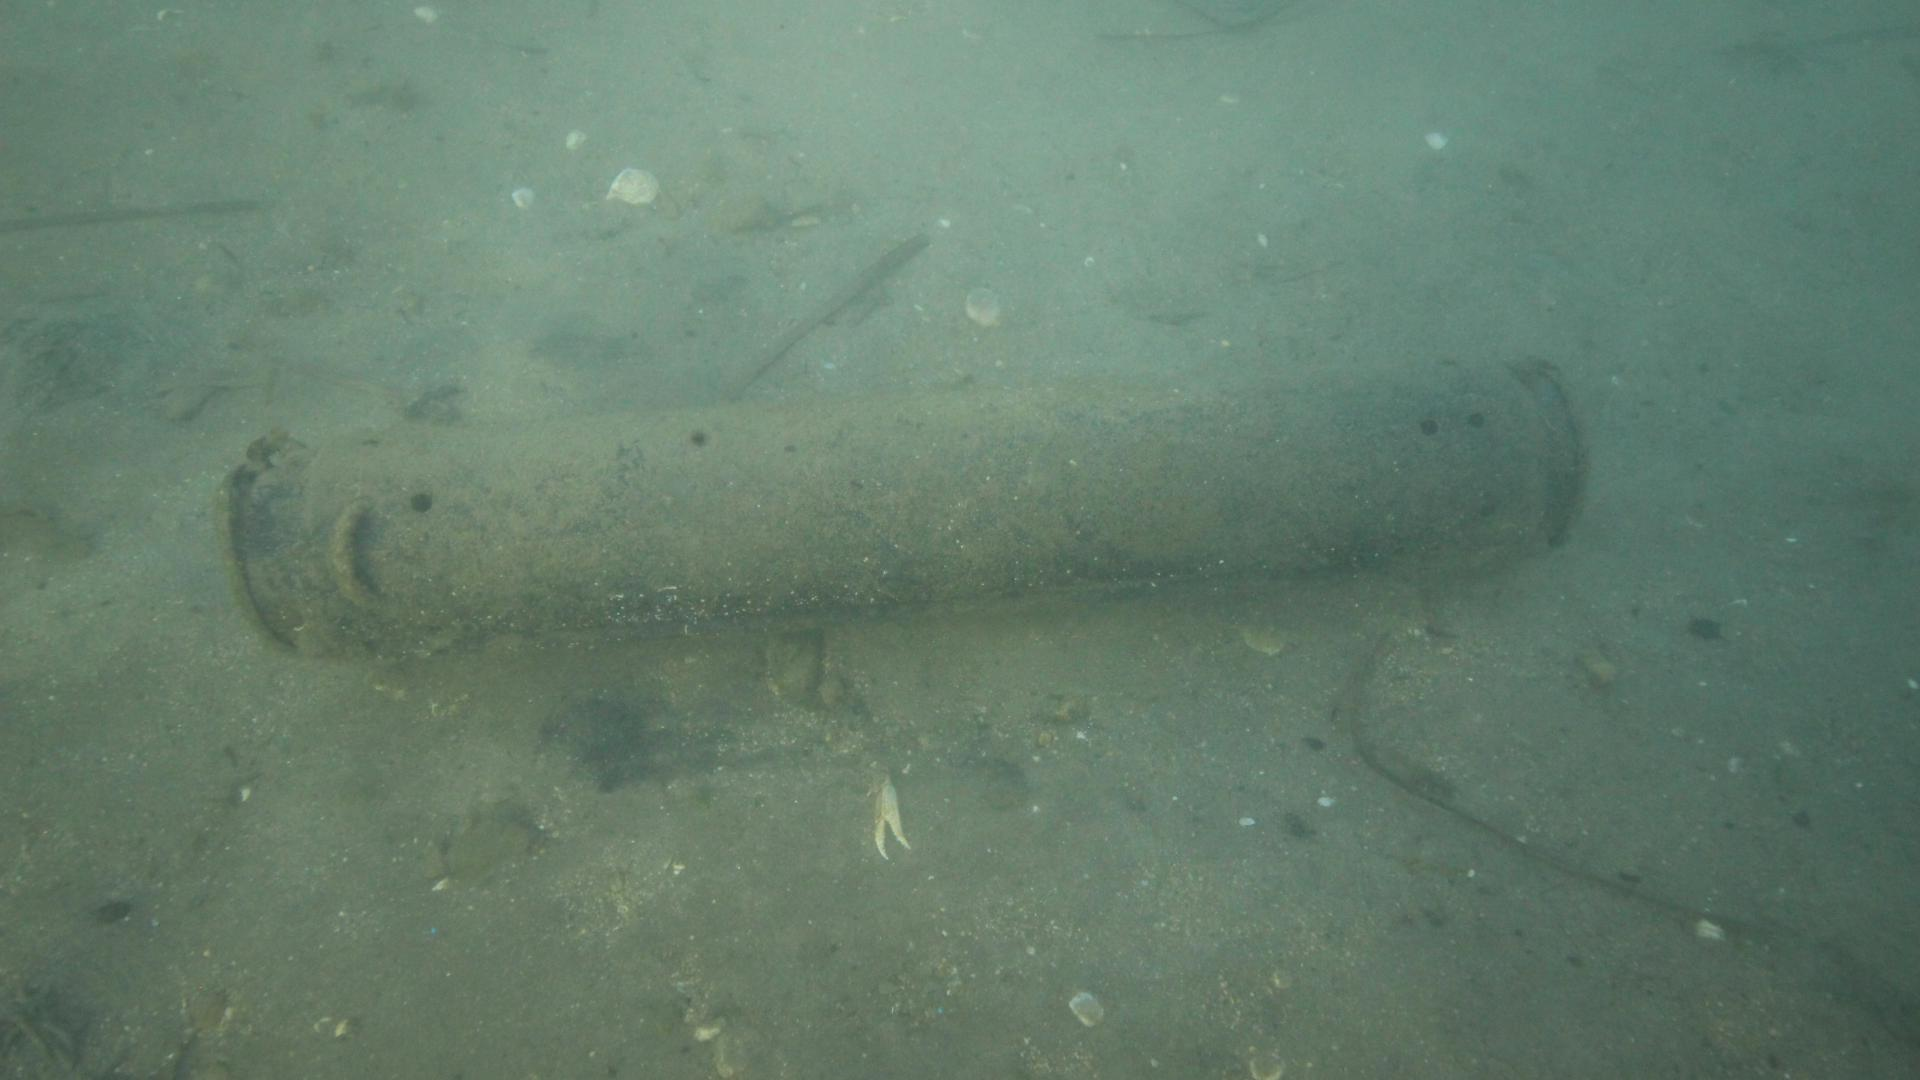eel fish trap: (224, 353, 1590, 667)
